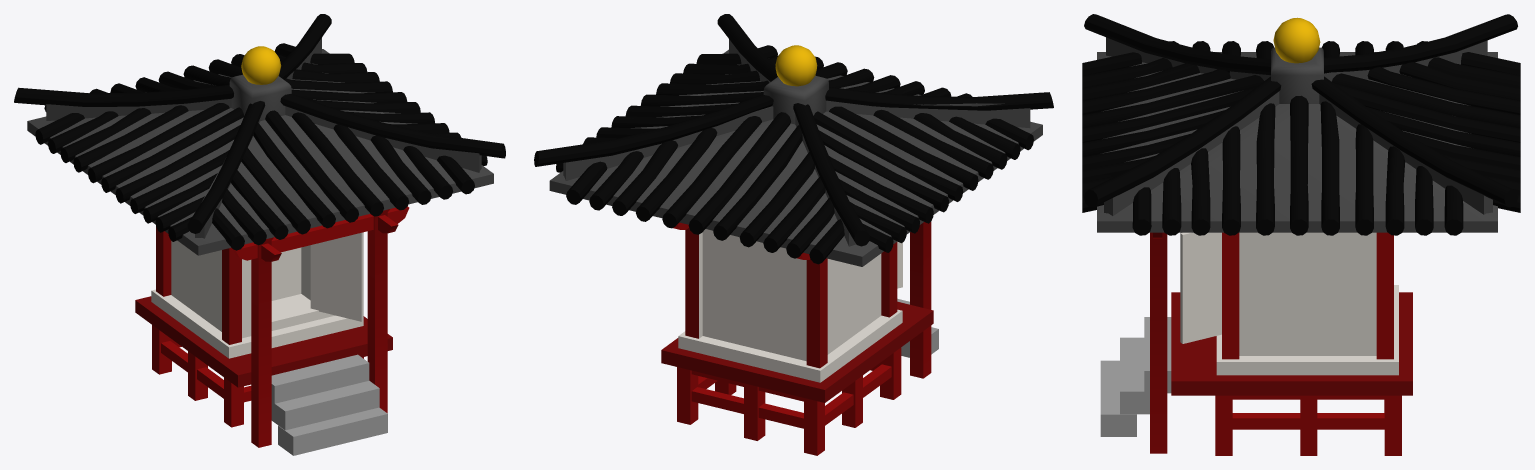
File: smallShrine.fbx
The picture shows the model from 3 angles, left to right: view 1: azimuth 30°, elevation 25°; view 2: azimuth 150°, elevation 25°; view 3: azimuth 270°, elevation 25°; orthographic projection. The views are drawn at different scales.
Visible parts, largest first — view 1: medium shrine; view 2: medium shrine; view 3: medium shrine.
Part boxes in pixels (x1,y1,x2,y2): medium shrine: (14, 14, 505, 455); medium shrine: (534, 14, 1053, 455); medium shrine: (1082, 14, 1520, 455).
Bounding box in the file's own units: 248 × 252 × 252.
